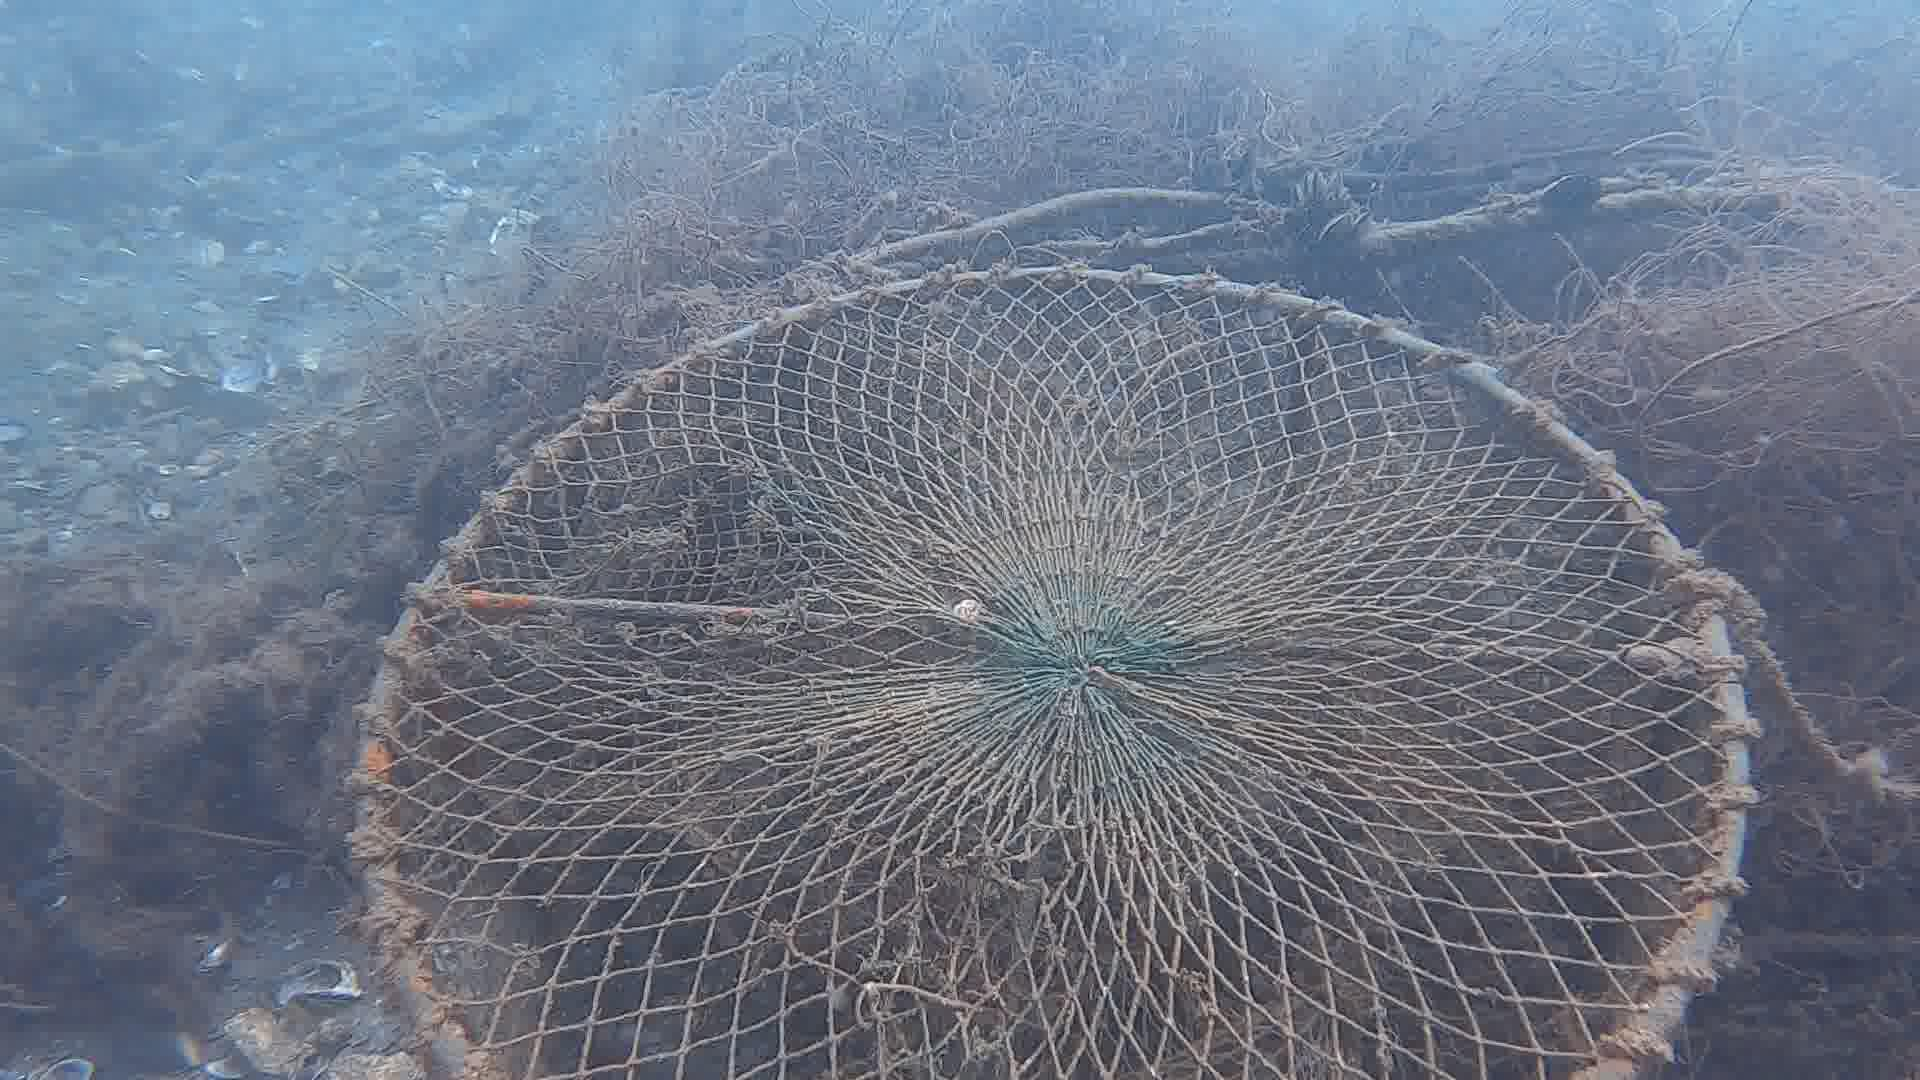circular fish trap: (343, 260, 1759, 1080)
rope: (800, 167, 1838, 255)
